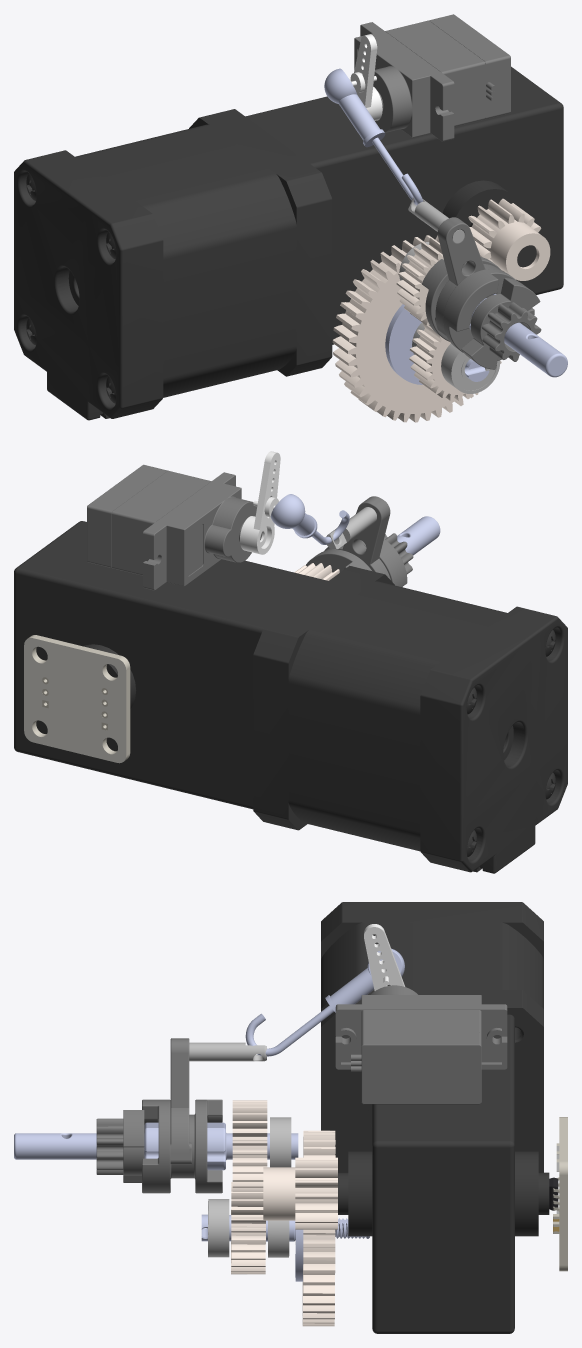
File: hankKneeInternals.glb
3 renders of one model, top to bottom at view 1: azimuth 30°, elevation 25°; view 2: azimuth 150°, elevation 25°; view 3: azimuth 270°, elevation 25°, orthographic. The views are drawn at different scales.
Visible parts, largest first — view 1: Rough Hub Motor Assembly-1, microservoSG90-1, spur gear_am-3, spur gear_am-4, Dog Clutch 1-1, Dog Clutch 2-1, Dog Clutch 4-1, microservoArmJoint-1, spur gear_am-5, spur gear_am-1, Dog Clutch 3-1, slip washer-1 (+2 smaller); view 2: Rough Hub Motor Assembly-1, microservoSG90-1, AS5600 Magnetic Encoder-1, Dog Clutch 4-1, microservoArm-1, microservoArmJoint-1, Dog Clutch 2-1, Dog Clutch 3-1; view 3: Rough Hub Motor Assembly-1, microservoSG90-1, spur gear_am-4, Dog Clutch 2-1, Dog Clutch 3-1, spur gear_am-3, Dog Clutch 4-1, spur gear_am-1, Dog Clutch 1-1, spur gear_am-5, microservoArmJoint-1, AS5600 Magnetic Encoder-1 (+5 smaller).
Part boxes in pixels (bbox=[...]): Rough Hub Motor Assembly-1: bbox=[14, 66, 563, 420]; microservoSG90-1: bbox=[354, 14, 510, 141]; spur gear_am-3: bbox=[332, 235, 473, 422]; spur gear_am-4: bbox=[468, 198, 550, 280]; Dog Clutch 1-1: bbox=[461, 278, 541, 369]; Dog Clutch 2-1: bbox=[422, 257, 534, 360]; Dog Clutch 4-1: bbox=[408, 197, 499, 336]; microservoArmJoint-1: bbox=[324, 68, 422, 205]; spur gear_am-5: bbox=[409, 323, 501, 401]; spur gear_am-1: bbox=[396, 237, 480, 326]; Dog Clutch 3-1: bbox=[469, 294, 567, 377]; slip washer-1: bbox=[385, 304, 422, 384]; Rough Hub Motor Assembly-1: bbox=[14, 521, 567, 873]; microservoSG90-1: bbox=[87, 464, 262, 590]; AS5600 Magnetic Encoder-1: bbox=[24, 635, 130, 763]; Dog Clutch 4-1: bbox=[326, 496, 390, 579]; microservoArm-1: bbox=[240, 451, 280, 554]; microservoArmJoint-1: bbox=[270, 494, 349, 544]; Dog Clutch 2-1: bbox=[306, 539, 407, 586]; Dog Clutch 3-1: bbox=[397, 516, 440, 555]; Rough Hub Motor Assembly-1: bbox=[321, 902, 549, 1333]; microservoSG90-1: bbox=[335, 985, 507, 1104]; spur gear_am-4: bbox=[263, 1157, 337, 1229]; Dog Clutch 2-1: bbox=[142, 1099, 222, 1193]; Dog Clutch 3-1: bbox=[14, 1122, 298, 1170]; spur gear_am-3: bbox=[302, 1130, 335, 1326]; Dog Clutch 4-1: bbox=[170, 1038, 266, 1164]; spur gear_am-1: bbox=[232, 1100, 267, 1191]; Dog Clutch 1-1: bbox=[96, 1110, 144, 1182]; spur gear_am-5: bbox=[231, 1182, 265, 1274]; microservoArmJoint-1: bbox=[245, 948, 404, 1056]; AS5600 Magnetic Encoder-1: bbox=[549, 1117, 567, 1271].
Bounding box in the file's own units: 0.1055 × 0.0786 × 0.1042.
